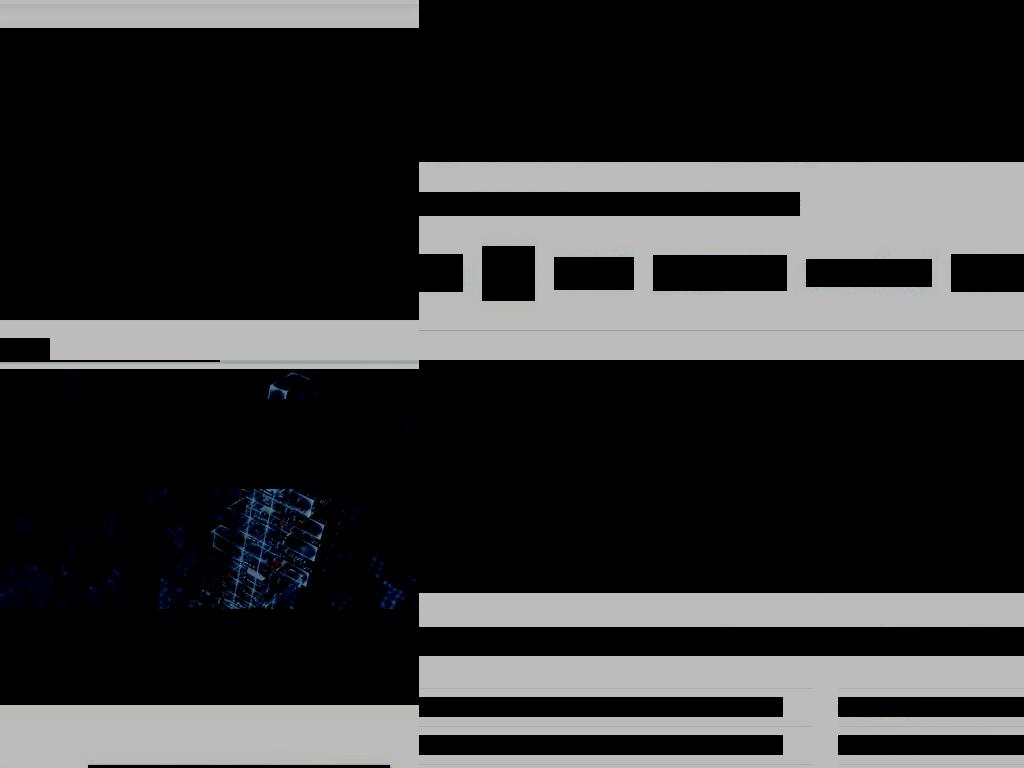button: (0, 609, 419, 705), (419, 192, 800, 216), (653, 255, 787, 291), (806, 259, 932, 287), (482, 246, 535, 301), (951, 254, 1024, 292), (554, 257, 634, 290), (0, 534, 69, 564), (419, 254, 463, 292)
field: (497, 365, 1024, 424)
heading: (0, 399, 390, 459), (419, 627, 1024, 656), (0, 128, 419, 160), (0, 100, 419, 128), (0, 459, 390, 489), (494, 193, 800, 215), (419, 193, 494, 215)
image: (419, 360, 1024, 593), (0, 28, 419, 320), (419, 0, 1024, 162), (419, 0, 1024, 162), (0, 64, 125, 284), (653, 255, 787, 291), (806, 260, 932, 287), (482, 246, 535, 301), (951, 254, 1024, 292), (554, 257, 634, 290), (419, 254, 463, 292)
link: (419, 697, 783, 717), (419, 735, 783, 755), (838, 697, 1024, 717), (838, 735, 1024, 755), (787, 433, 883, 451)
text: (419, 489, 1024, 514), (0, 535, 68, 563), (272, 648, 339, 663)
